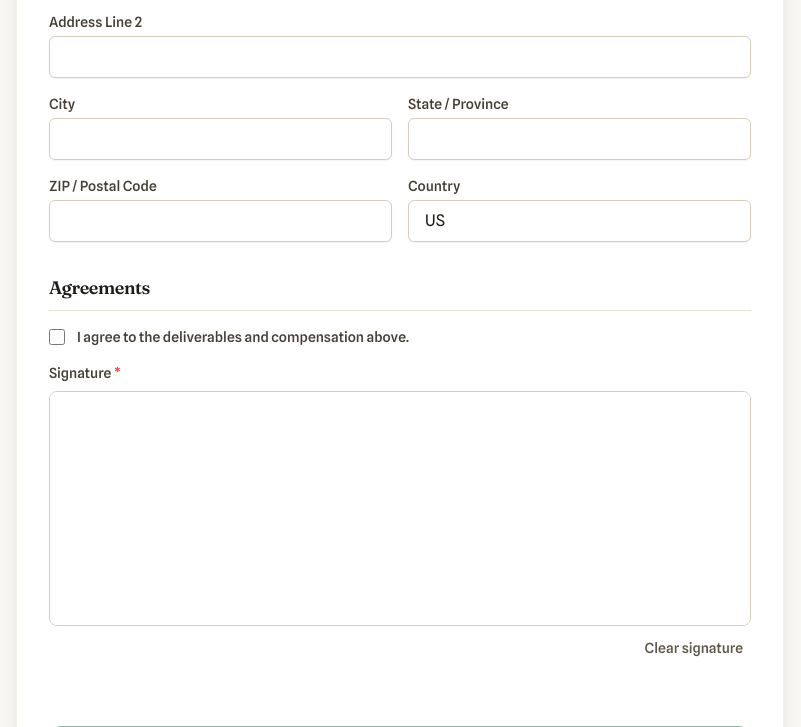
Test: AcceptOffer signature pad › lets the creator clear the pad and sign again
The width and height of the screenshot is (801, 727).
(page scrolled)
Click the checkbox labelled "I agree to the deliverables and compensation above." at [57, 337], box [49,329,65,345]
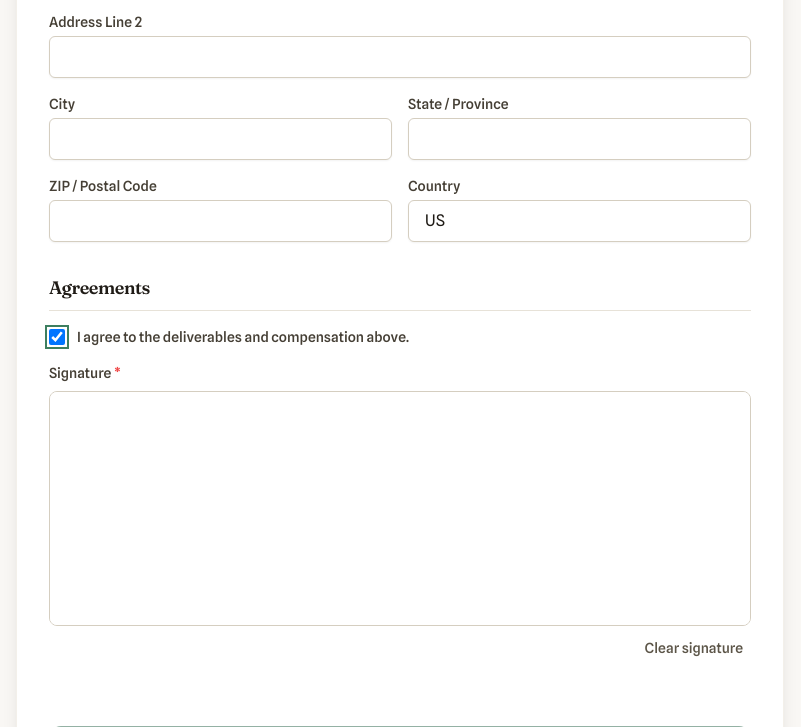
Press the mouse on the picture named "Signature pad" at [400, 509], box [50,392,750,625]
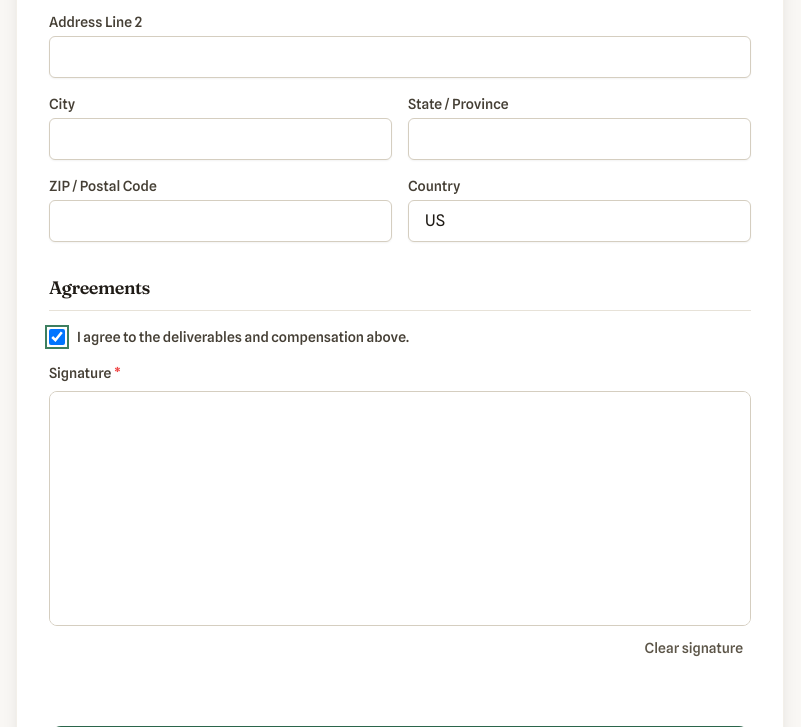
Click the button "Clear signature" at [694, 648], box [637,626,751,670]
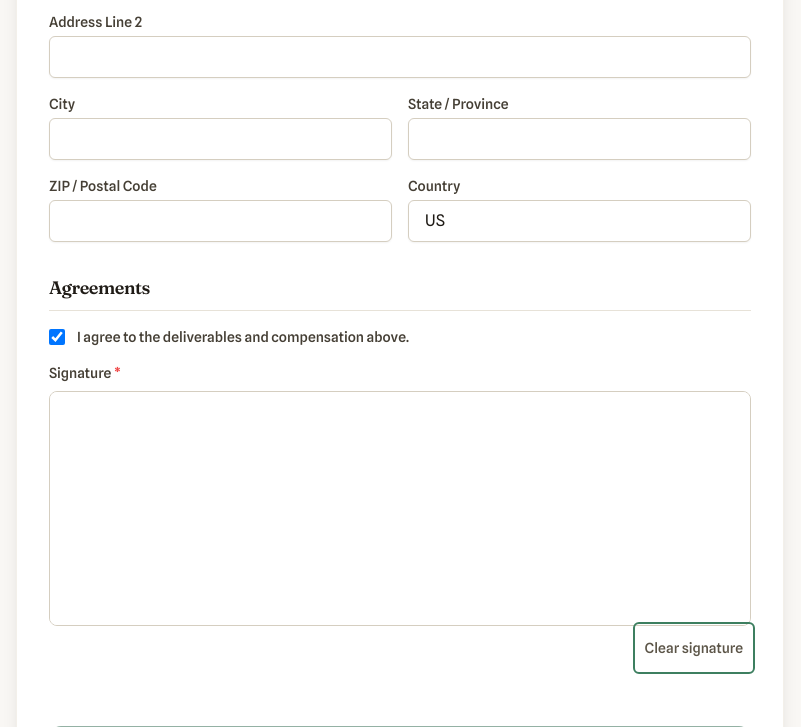
Press the mouse on the picture named "Signature pad" at [400, 509], box [50,392,750,625]
Press the mouse on the picture named "Signature pad" at [400, 509], box [50,392,750,625]
(page scrolled)
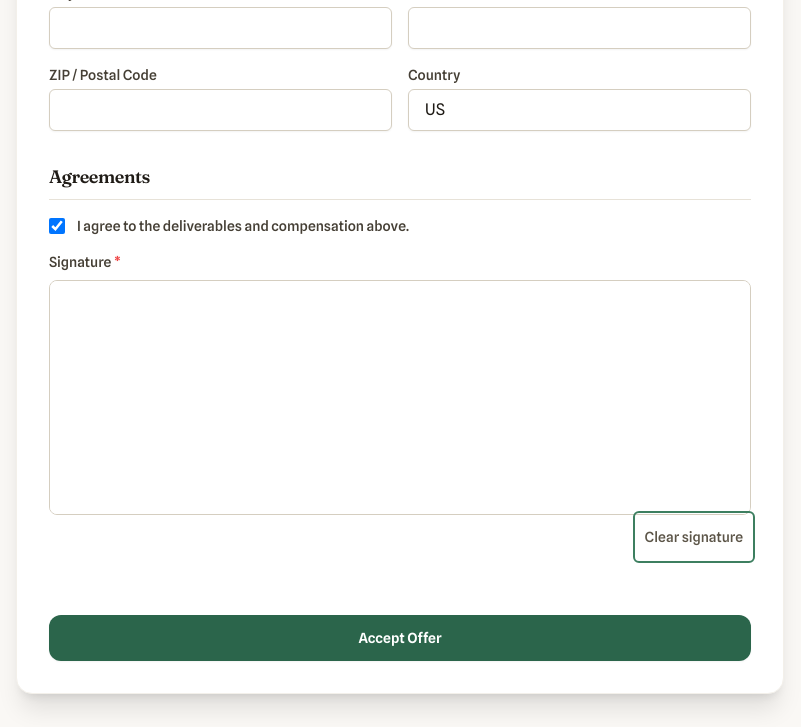
Expected: the button "Accept Offer" is enabled, [49,615,751,661]
